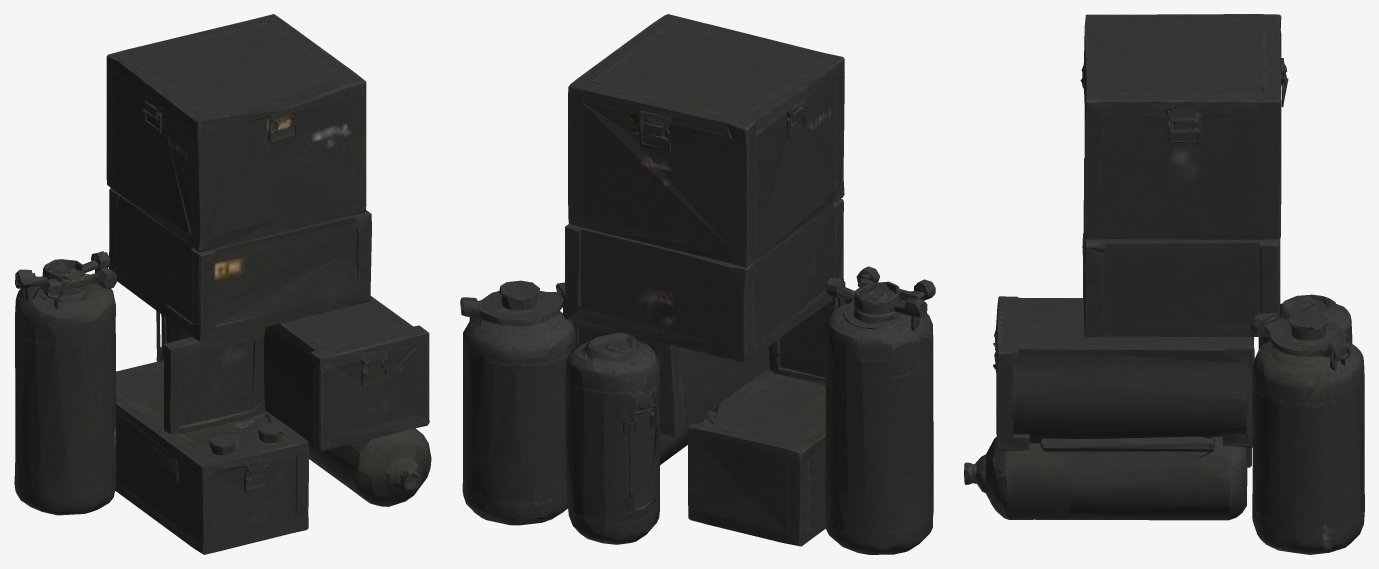
File: p_crates.glb
3 views of the same model, side by side, from view 1: azimuth 30°, elevation 25°; view 2: azimuth 150°, elevation 25°; view 3: azimuth 270°, elevation 25° (orthographic). The views are drawn at different scales.
Parts seen in each view (by area): view 1: mesh_0; view 2: mesh_0; view 3: mesh_0.
Boxes of the visible parts, bbox=[...] form: mesh_0: bbox=[14, 14, 431, 554]; mesh_0: bbox=[460, 14, 935, 554]; mesh_0: bbox=[964, 14, 1364, 554].
Bounding box in the file's own units: 1.89 × 1.9 × 1.65.
Materials: 1 (1 with a texture image).
